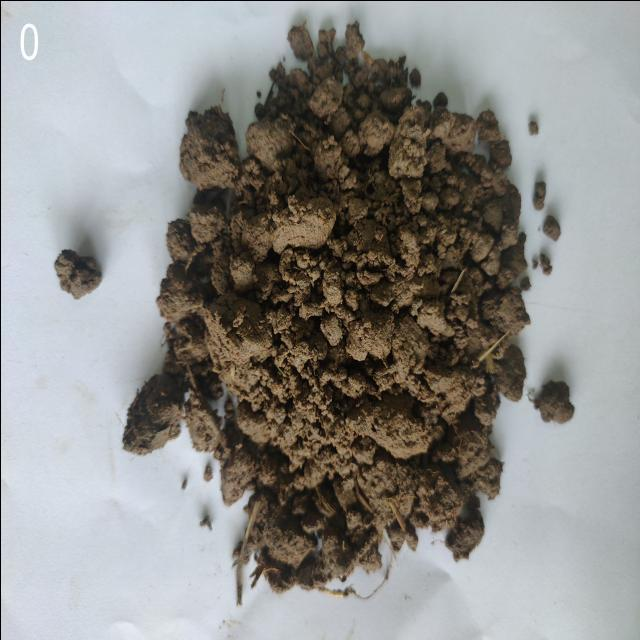soil: (232, 143, 472, 486)
